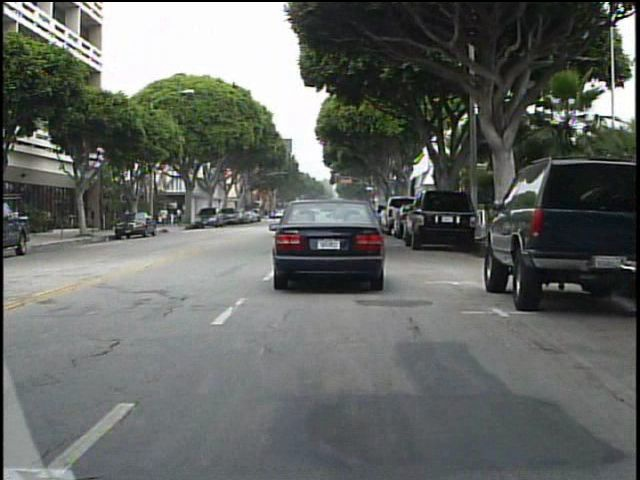person: (158, 205, 172, 231), (175, 203, 187, 230)
